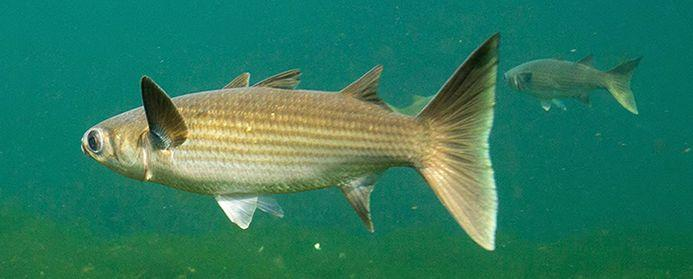Mullet: (78, 28, 503, 246), (500, 37, 652, 127)
